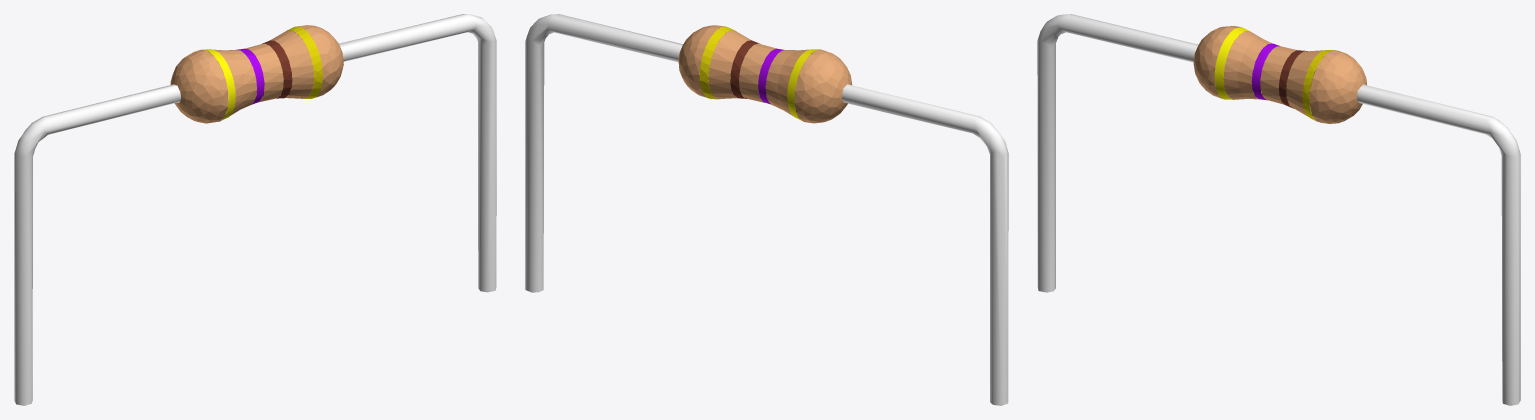
The model's file is resistor470.fbx.
The picture shows the model from 3 angles, left to right: view 1: azimuth 30°, elevation 25°; view 2: azimuth 150°, elevation 25°; view 3: azimuth 330°, elevation 25°; orthographic projection.
Visible parts, largest first — view 1: 470ohm; view 2: 470ohm; view 3: 470ohm.
Boxes of the visible parts, x1=… form: 470ohm: x1=14, y1=14, x2=496, y2=405; 470ohm: x1=525, y1=14, x2=1008, y2=405; 470ohm: x1=1037, y1=14, x2=1520, y2=405.
Size of the model in its own units: 1.79 by 1.08 by 0.2409.
